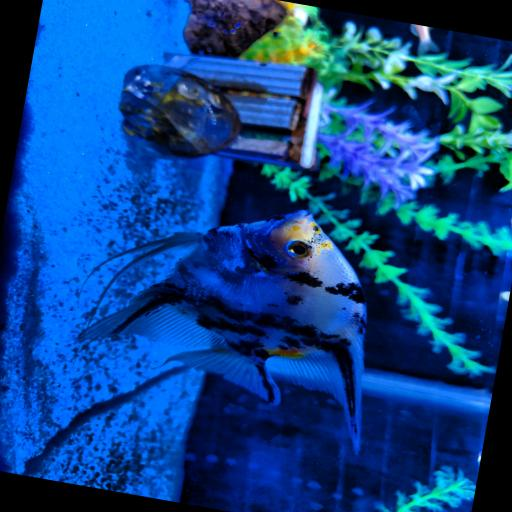Fish: (82, 209, 365, 448), (410, 24, 437, 54)
